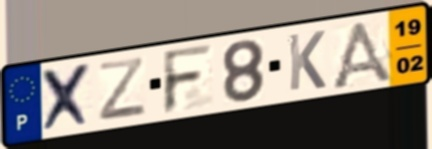8: (220, 38, 267, 104)
A: (327, 17, 398, 89)
F: (160, 42, 215, 117)
K: (285, 29, 328, 94)
X: (39, 60, 96, 135)
Z: (96, 55, 149, 123)
